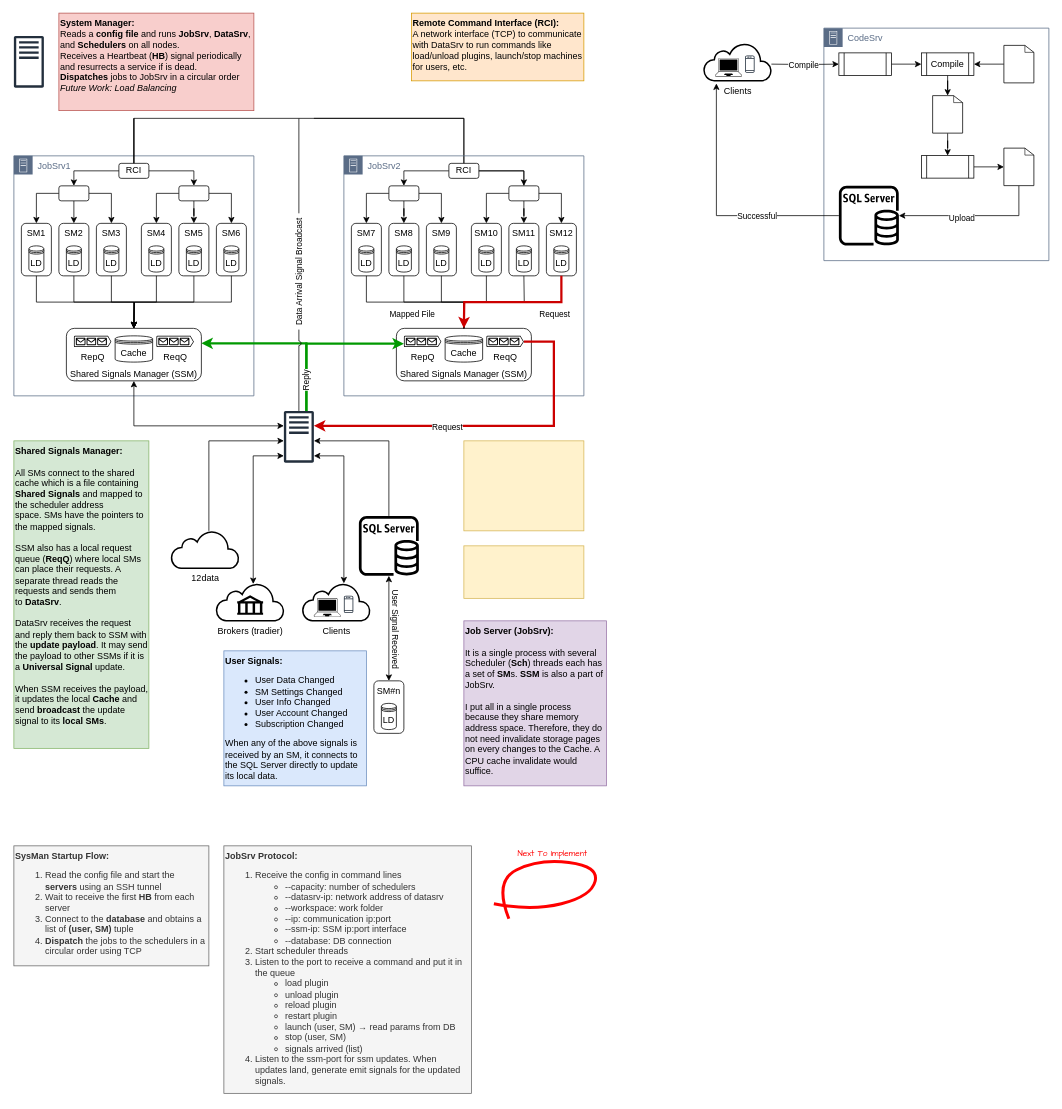
This 1062x1109 diagram has some shape labels left out. Here are the shapes that lost their labels. From the top down, the centre of each, then its label:
At (29,61): "SysMan".
At (864,63): "Unzip".
At (1018,64): "stdlib".
At (947,114): ".cpp".
At (947,166): "Make dylib".
At (1018,166): ".dylib".
At (73,193): "Sch1".
At (193,193): "Sch2".
At (403,193): "Sch3".
At (523,193): "Sch4".
At (299,436): "DataSrv".
At (523,485): "Shared Signals: Tickers Accounts User Info Plugins (SMs) Universal Signals".
At (523,571): "Requests: Place Order Universal Signals".
